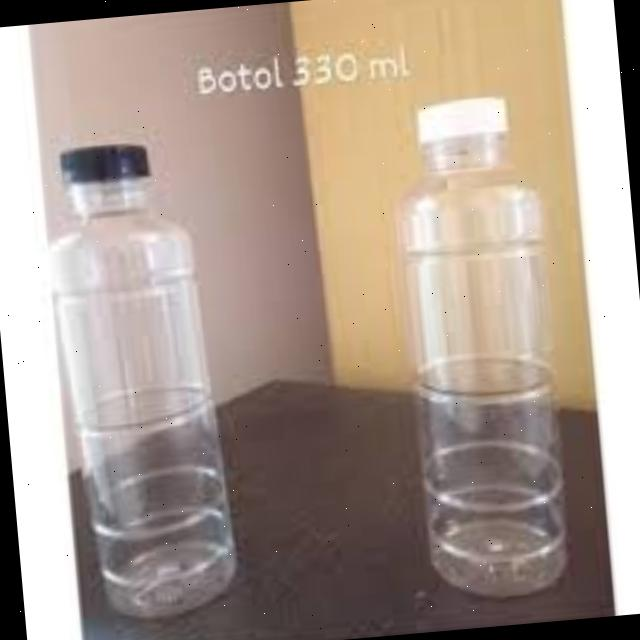trash: (378, 84, 586, 610), (36, 128, 245, 634)
